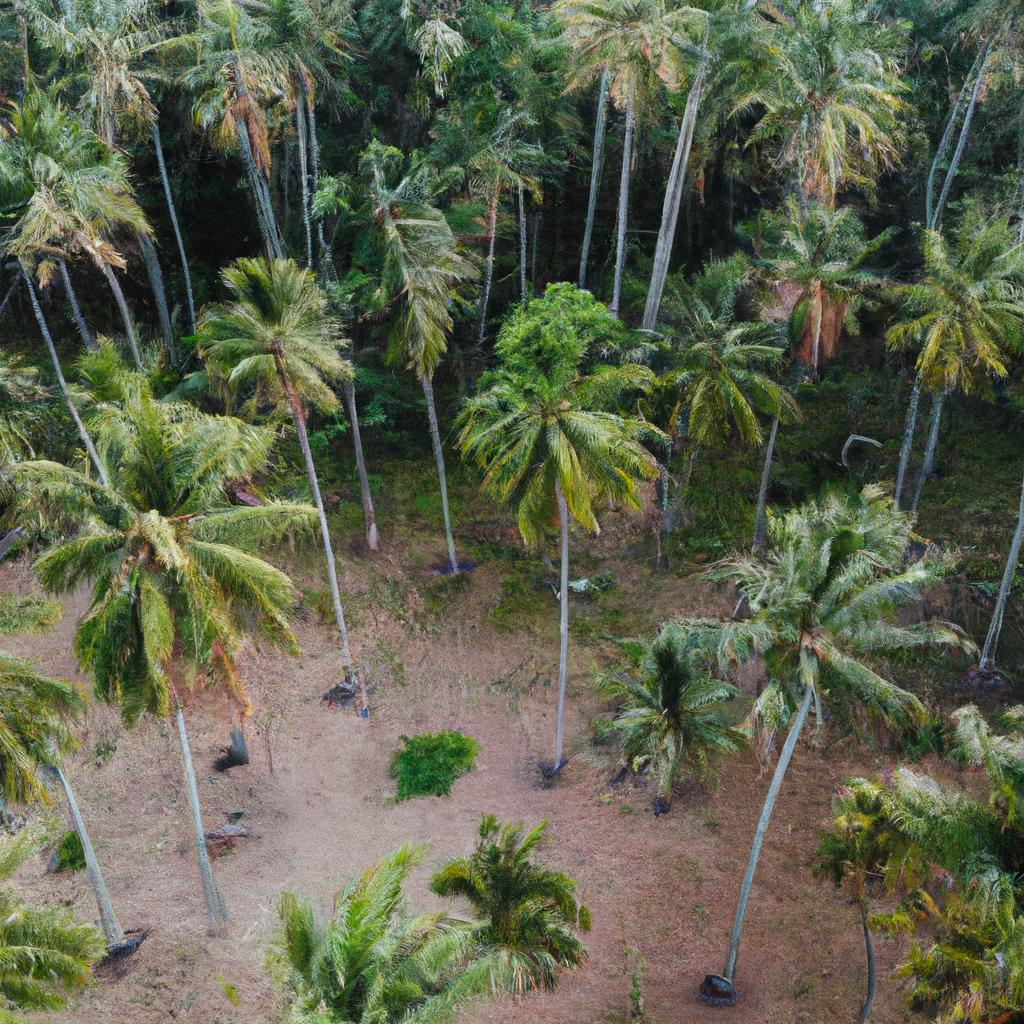coconut_tree: (15, 337, 297, 734), (731, 478, 961, 762), (435, 337, 692, 564), (191, 242, 365, 435), (875, 212, 1023, 407), (452, 799, 612, 975)
